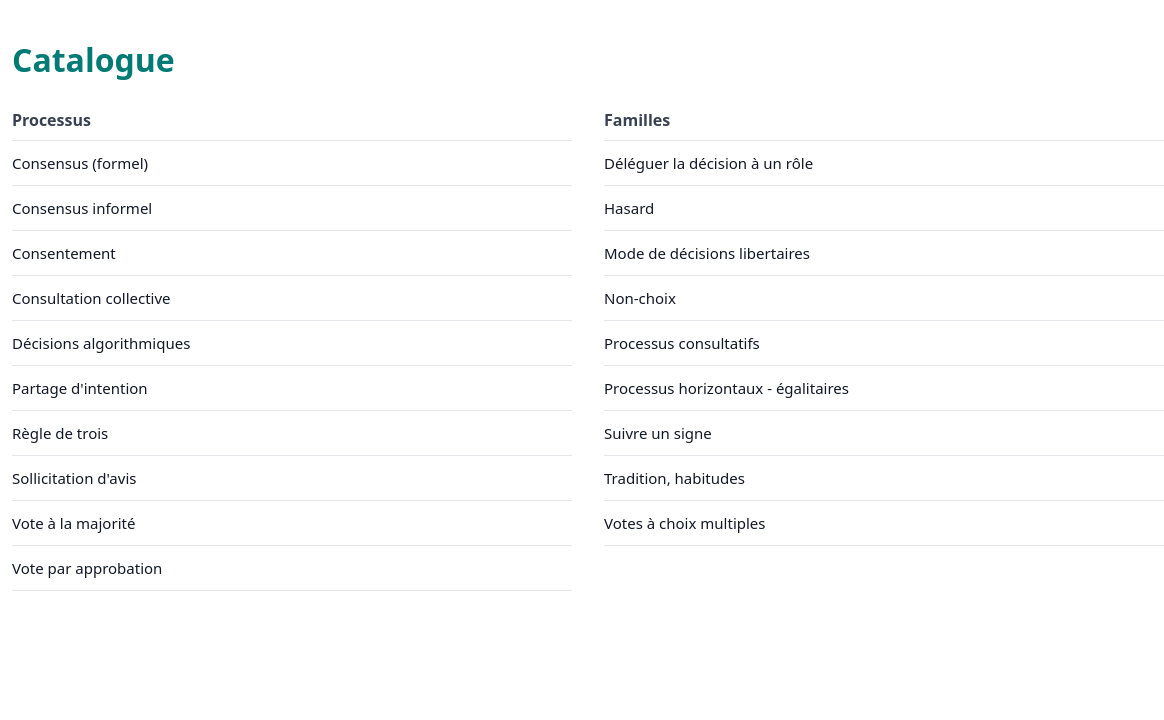
Test: Catalogue › link_whenClicked_navigatesToDetailWithBackToCatalogueLink
Click the link "Vote à la majorité" at (74, 523), box [12,513,135,533]
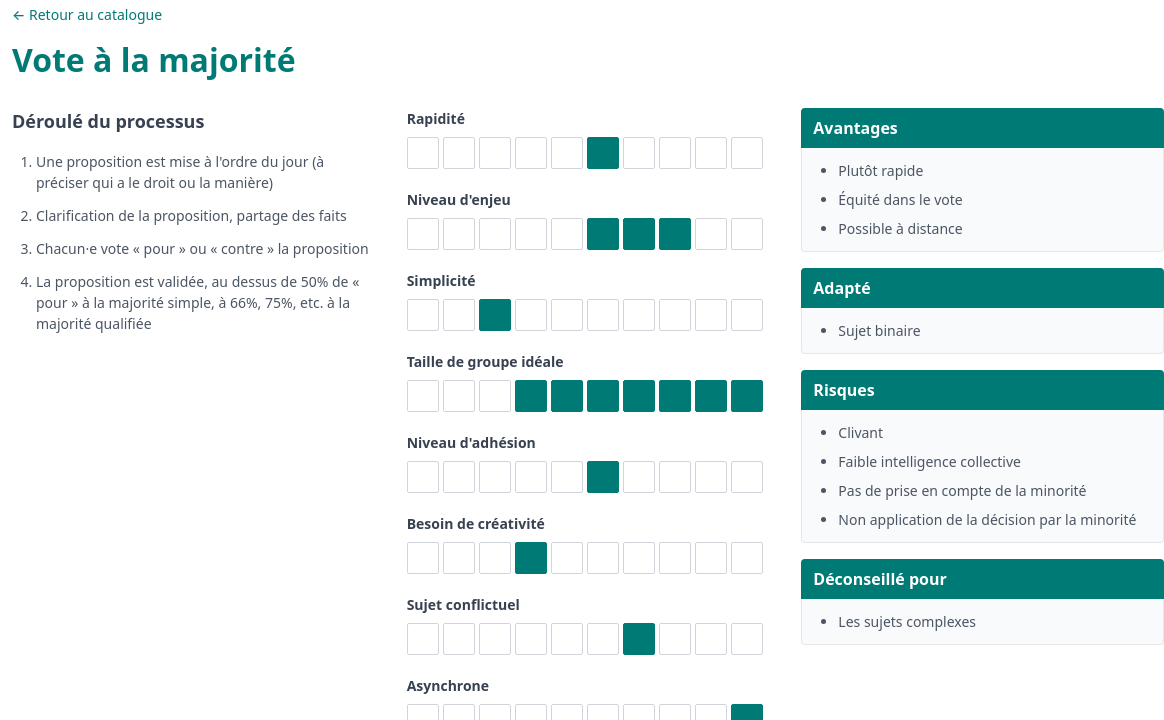
Result: the link "← Retour au catalogue" is shown at [12,4,162,24]
